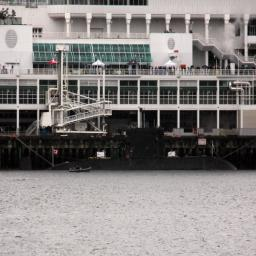submarine: (51, 128, 238, 171)
